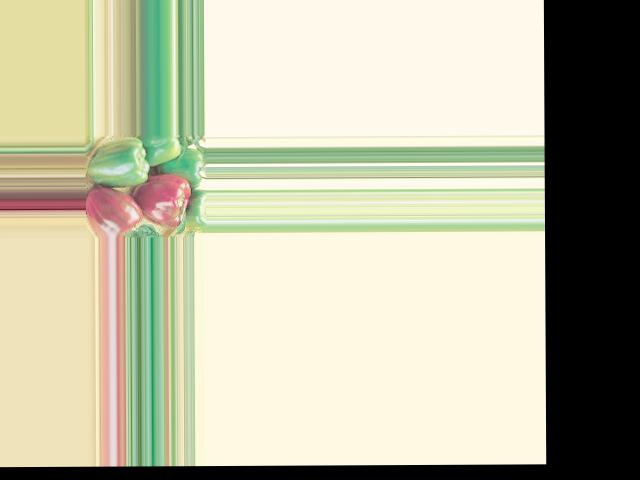bell_pepper: (85, 189, 142, 235)
